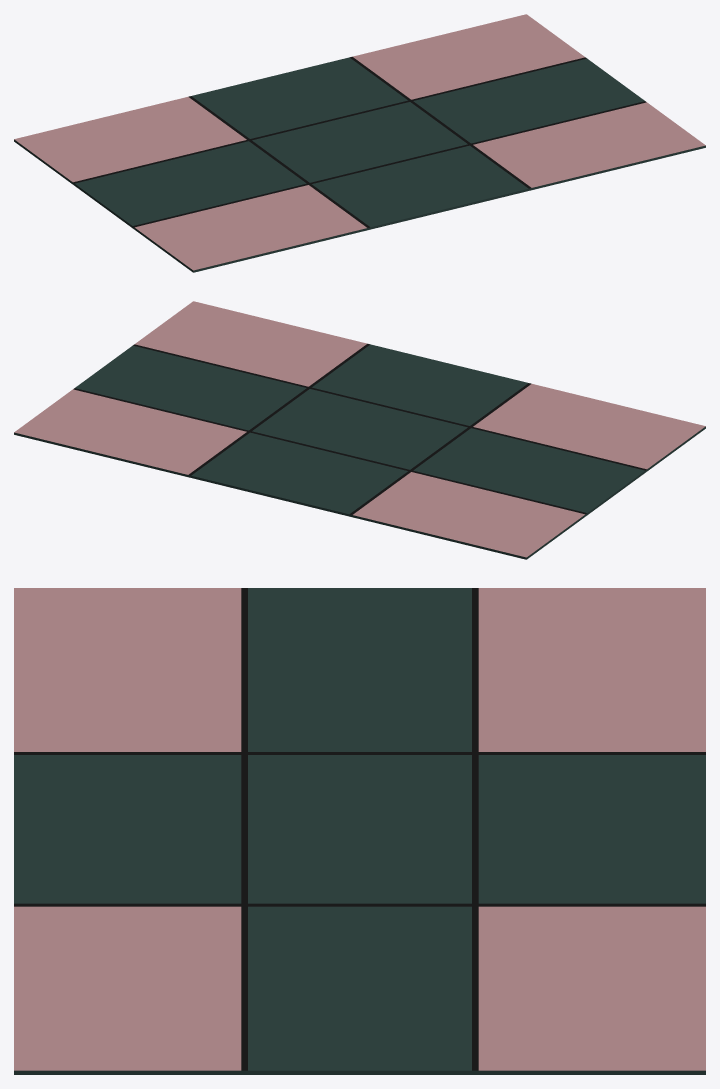
Rendered from Floor 3e version.FBX.
3 renders of one model, top to bottom at view 1: azimuth 30°, elevation 25°; view 2: azimuth 150°, elevation 25°; view 3: azimuth 270°, elevation 25°, orthographic. The views are drawn at different scales.
Visible parts, largest first — view 1: Nouveau sol médical; view 2: Nouveau sol médical; view 3: Nouveau sol médical.
Part boxes in pixels (x1=…): Nouveau sol médical: x1=14, y1=14, x2=705, y2=272; Nouveau sol médical: x1=14, y1=301, x2=705, y2=559; Nouveau sol médical: x1=14, y1=588, x2=705, y2=1074.
Bounding box in the file's own units: 3400 × 14.47 × 2061.
